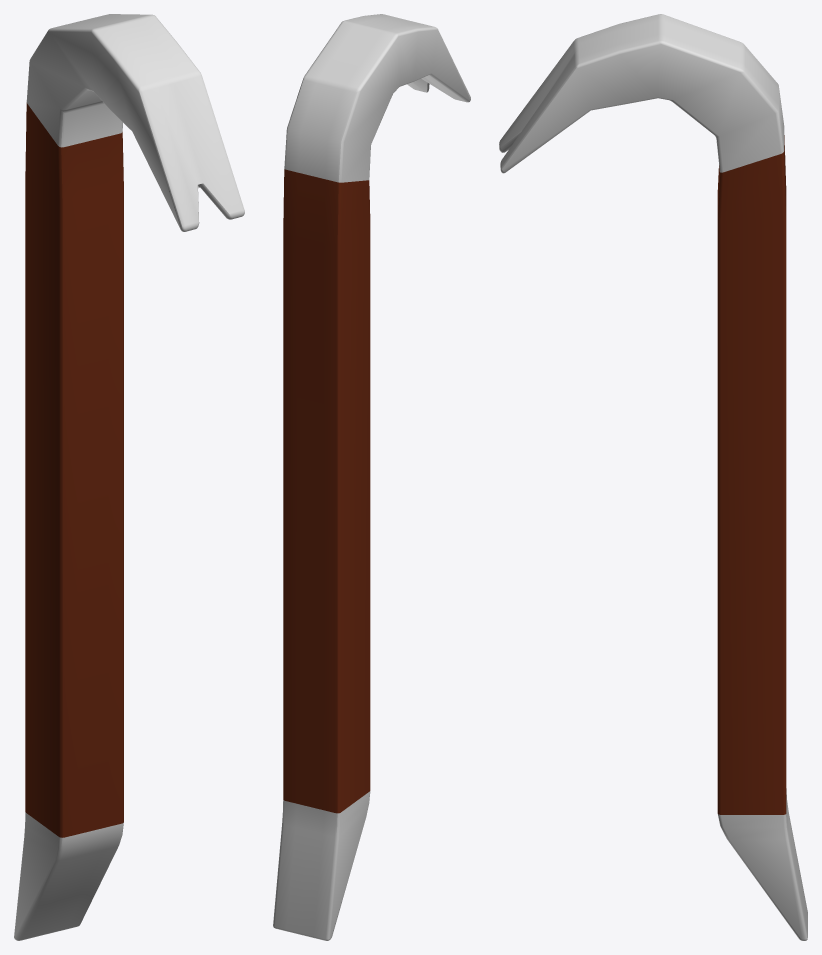
Rendered from crowbar.glb.
3 renders of one model, left to right at view 1: azimuth 30°, elevation 25°; view 2: azimuth 150°, elevation 25°; view 3: azimuth 270°, elevation 25°, orthographic. The views are drawn at different scales.
Parts seen in each view (by area): view 1: crowbar; view 2: crowbar; view 3: crowbar.
Boxes of the visible parts, <box> form: crowbar: <box>14,14,244,940</box>; crowbar: <box>273,14,470,940</box>; crowbar: <box>499,14,807,940</box>.
Size of the model in its own units: 0.1929 by 2.6 by 0.8097.
